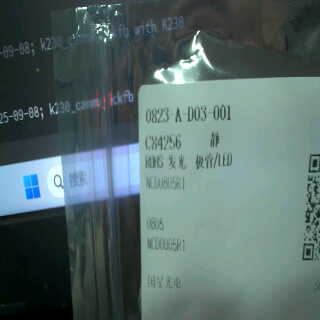LED: (165, 150, 237, 177)
